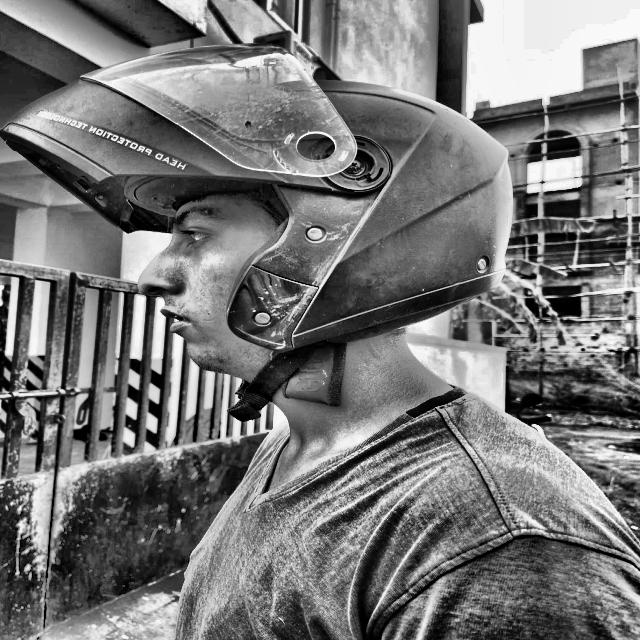Helmet: (0, 28, 517, 429)
